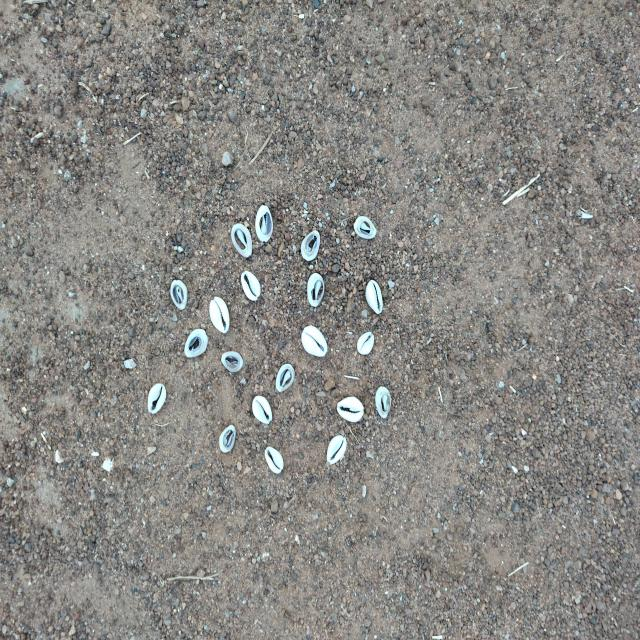facedown: (230, 223, 253, 260), (183, 327, 208, 359), (254, 204, 274, 242), (168, 278, 189, 312), (300, 229, 321, 263), (353, 214, 378, 242), (306, 273, 326, 308), (375, 384, 393, 420), (276, 363, 296, 391), (221, 350, 244, 373), (218, 426, 236, 454)
faceup: (300, 324, 328, 359), (209, 294, 231, 336), (336, 394, 366, 424), (249, 395, 274, 425), (324, 435, 348, 466), (239, 269, 261, 302), (146, 380, 166, 415), (366, 279, 384, 315), (264, 446, 285, 474), (356, 330, 377, 357)
